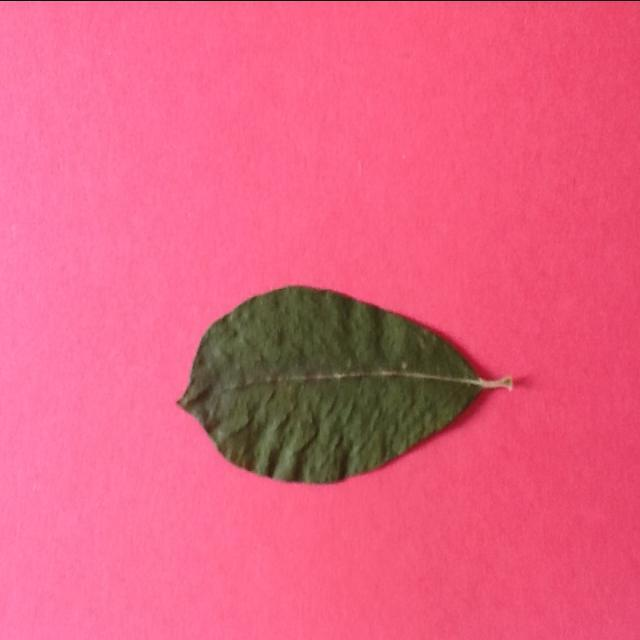foliage: (178, 283, 518, 482)
